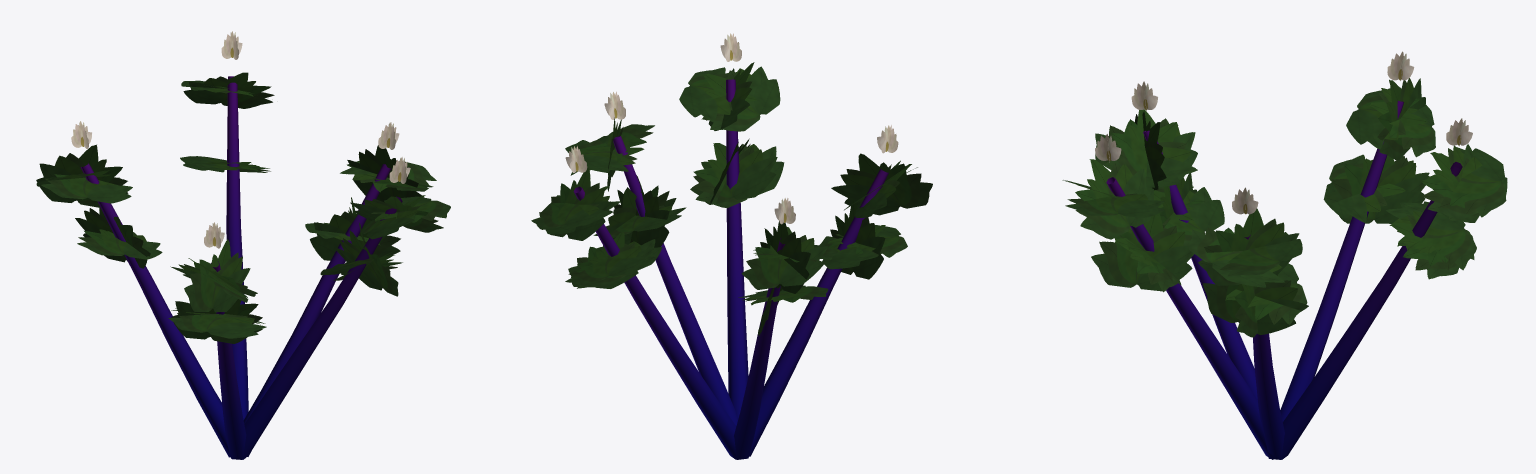
Rendered from ENV_PC_Magnolia_A.fbx.
3 renders of one model, left to right at view 1: azimuth 30°, elevation 25°; view 2: azimuth 150°, elevation 25°; view 3: azimuth 270°, elevation 25°, orthographic. The views are drawn at different scales.
Parts seen in each view (by area): view 1: ENV_PC_Magnolia_A_LOD0; view 2: ENV_PC_Magnolia_A_LOD0; view 3: ENV_PC_Magnolia_A_LOD0.
Boxes of the visible parts, x1=… form: ENV_PC_Magnolia_A_LOD0: x1=36, y1=31, x2=450, y2=459; ENV_PC_Magnolia_A_LOD0: x1=531, y1=33, x2=932, y2=459; ENV_PC_Magnolia_A_LOD0: x1=1062, y1=51, x2=1507, y2=459.
Size of what is drawn, in the model's own units: 2.59 by 2.45 by 2.87.
